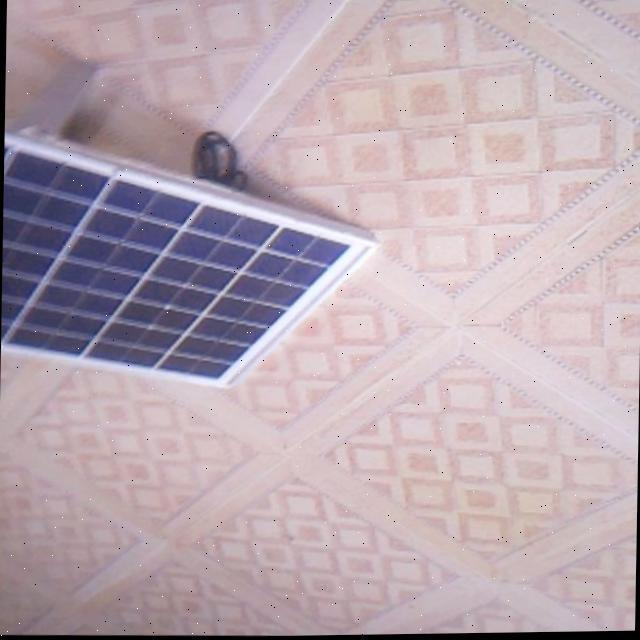Normal Solar Panel: (0, 128, 373, 392)
